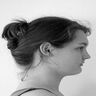ear: (33, 35, 58, 60)
